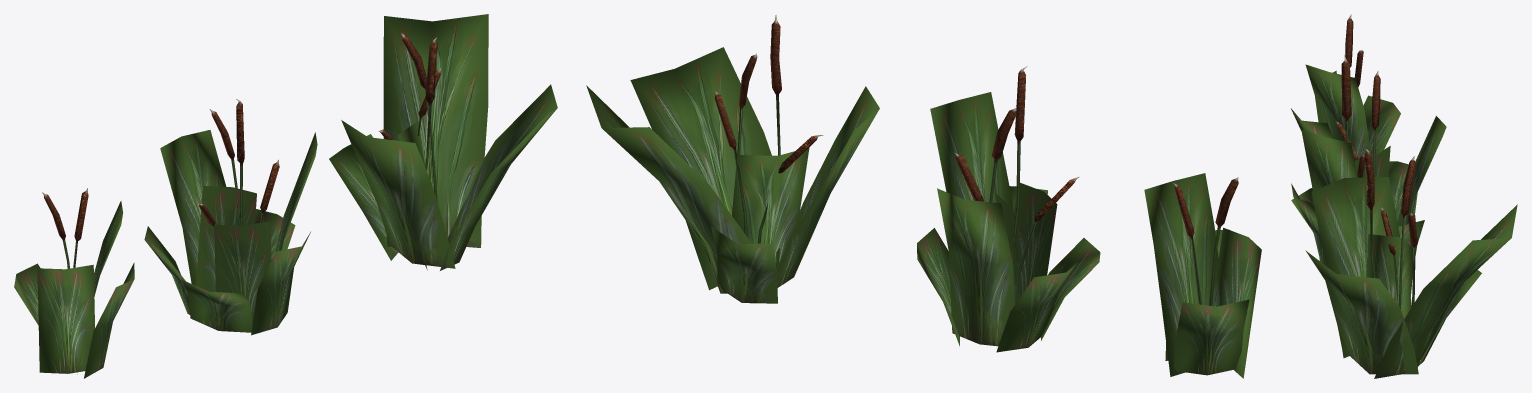
File: Typha orientalis C_Presl_m.FBX
3 renders of one model, left to right at view 1: azimuth 30°, elevation 25°; view 2: azimuth 150°, elevation 25°; view 3: azimuth 270°, elevation 25°, orthographic. The views are drawn at different scales.
Parts seen in each view (by area): view 1: Typha orientalis001, Object001, Typha orientalis; view 2: Typha orientalis001, Object001, Typha orientalis; view 3: Typha orientalis001, Object001, Typha orientalis.
Part boxes in pixels (box(x1,y1,x2,y2)): Typha orientalis001: box(329, 14, 557, 270); Object001: box(144, 99, 317, 335); Typha orientalis: box(14, 188, 134, 378); Typha orientalis001: box(586, 15, 879, 303); Object001: box(917, 66, 1100, 352); Typha orientalis: box(1144, 173, 1261, 378); Typha orientalis001: box(1305, 148, 1517, 378); Object001: box(1291, 55, 1446, 265); Typha orientalis: box(1291, 14, 1400, 159).
Bounding box in the file's own units: 194 × 80.33 × 76.5.
